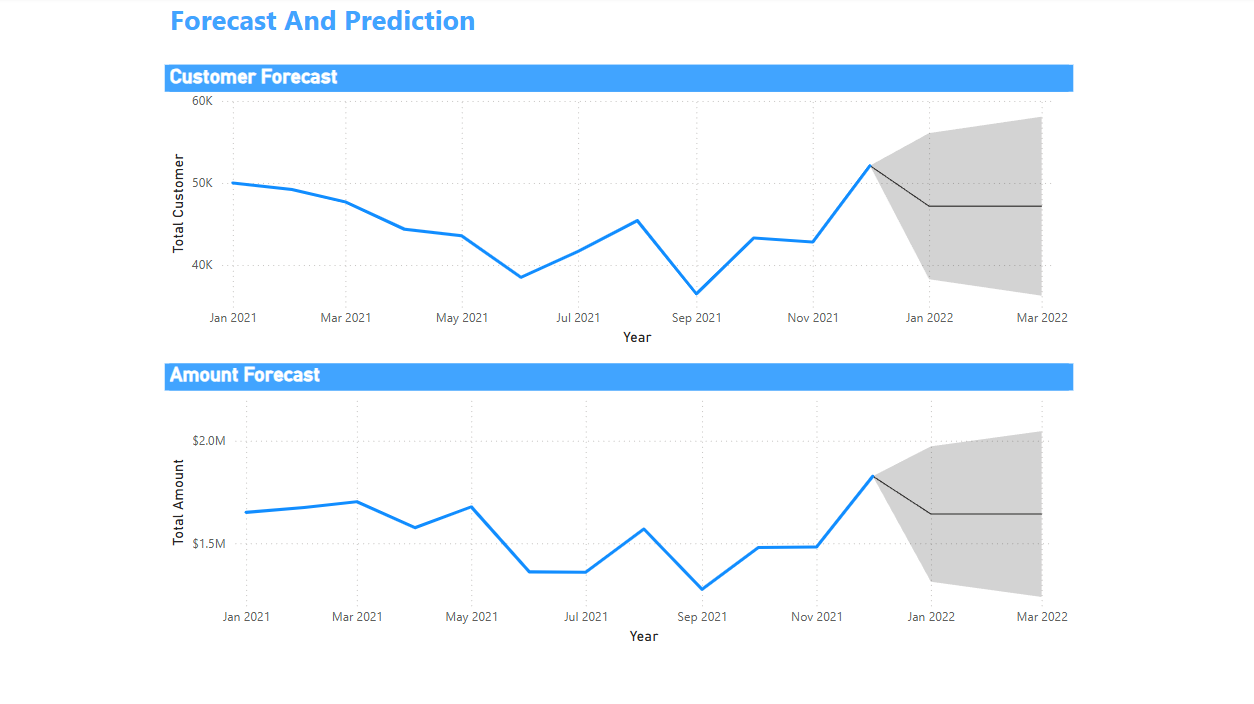

What the dashboard file says about the page in this screenshot:
{"tool":"powerbi","page":{"name":"Forecast And Prediction","canvas":[1280,720],"ordinal":2},"visuals":[{"type":"lineChart","title":"Customer Forecast","fields":{"Category":["sales.Date.Variation.Date Hierarchy.Year","sales.Date.Variation.Date Hierarchy.Quarter","sales.Date.Variation.Date Hierarchy.Month","sales.Date.Variation.Date Hierarchy.Day"],"Y":["sales.Total Customer"]},"box":[194.4,67.3,889,280],"z":0},{"type":"lineChart","title":"Amount Forecast","fields":{"Category":["sales.Date.Variation.Date Hierarchy.Year","sales.Date.Variation.Date Hierarchy.Quarter","sales.Date.Variation.Date Hierarchy.Month","sales.Date.Variation.Date Hierarchy.Day"],"Y":["sales.Total Amount"]},"box":[194.4,359.5,889,280],"z":1},{"type":"textbox","box":[194.4,0,338.7,52.6],"z":2}]}

Visuals, with their boxes in screenshot pixels (x1, y1, x2, y2), scaled from the page's 1280x720 canvas onto the 1254x704 screenshot:
"Customer Forecast" lineChart: l=190, t=66, r=1061, b=340
"Amount Forecast" lineChart: l=190, t=352, r=1061, b=625
textbox: l=190, t=0, r=522, b=51
